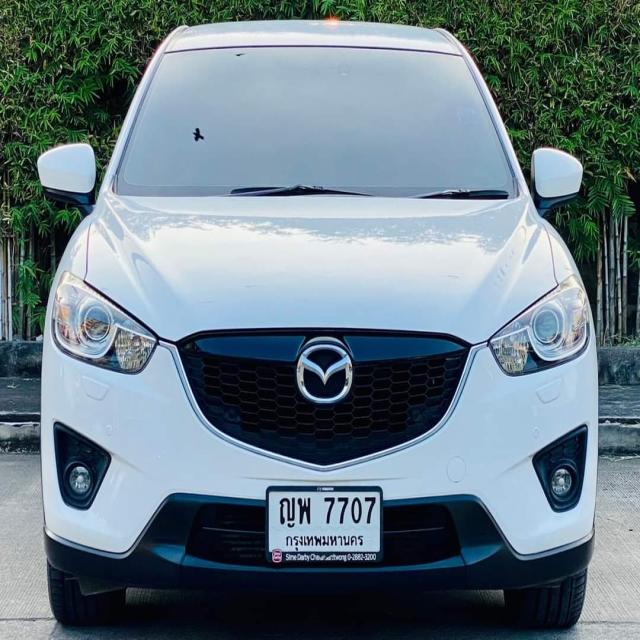license_plate: (264, 481, 385, 567)
